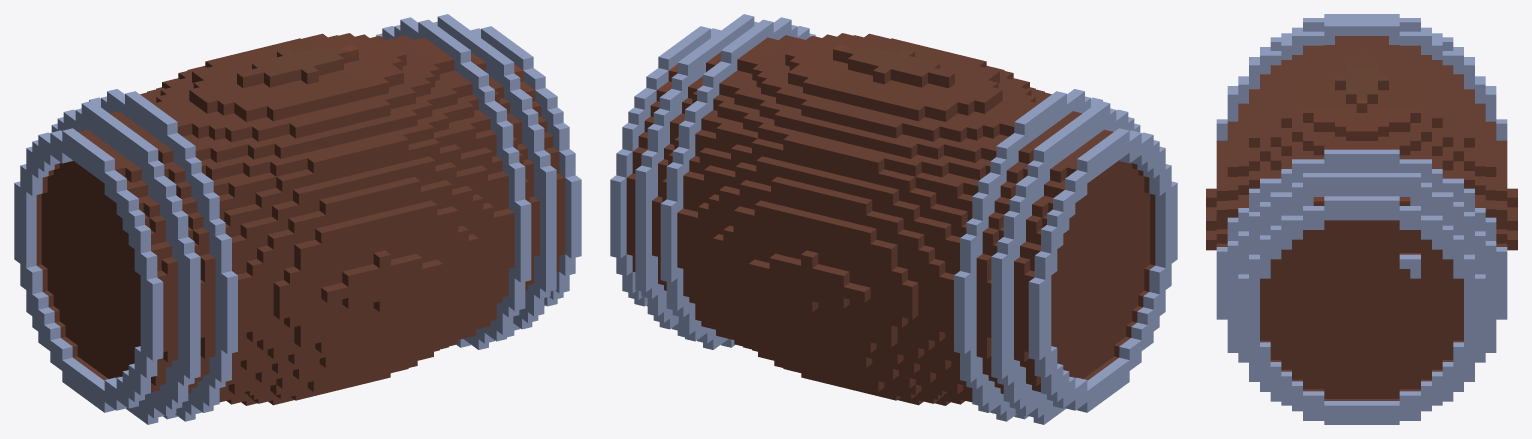
The model's file is taru.fbx.
3 renders of one model, left to right at view 1: azimuth 30°, elevation 25°; view 2: azimuth 150°, elevation 25°; view 3: azimuth 270°, elevation 25°, orthographic. The views are drawn at different scales.
Visible parts, largest first — view 1: 円柱; view 2: 円柱; view 3: 円柱.
Part boxes in pixels (left/top/right/bottom): 円柱: left=14, top=14, right=581, bottom=424; 円柱: left=610, top=14, right=1177, bottom=424; 円柱: left=1206, top=14, right=1517, bottom=424.
Size of the model in its own units: 321 by 227 by 227.
Materials: 1 (1 with a texture image).
